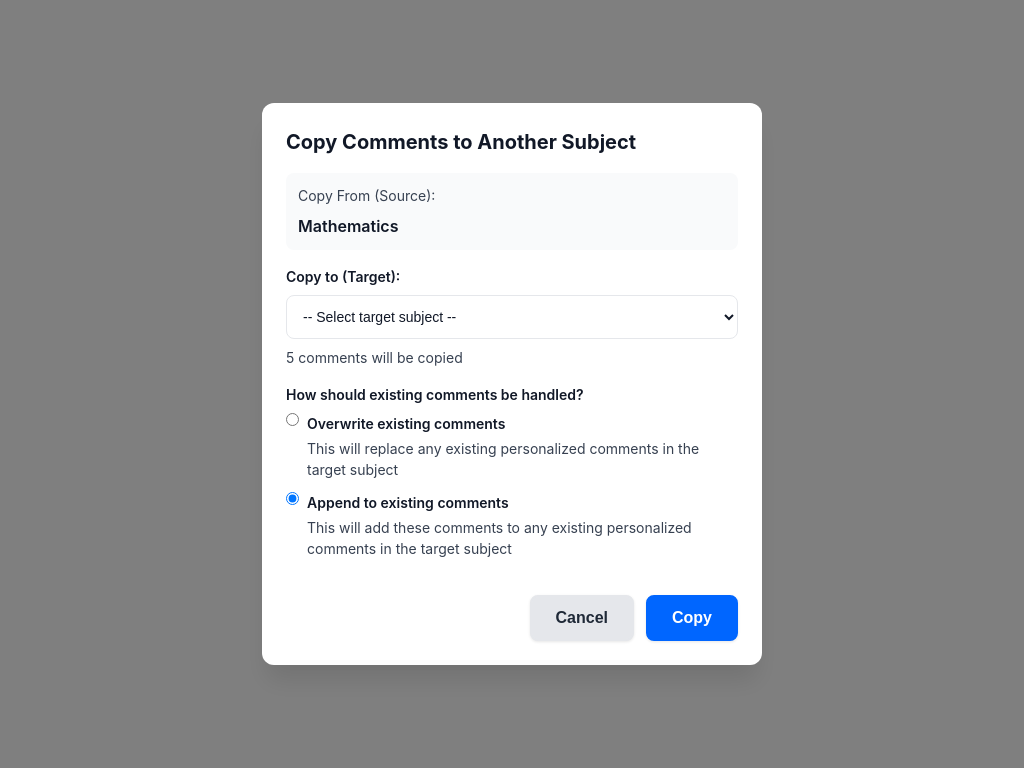
it: CopyCommentsModal - Validation & Edge Cases (US-CP-005) › AC-5.5: API Error Edge Cases › should handle 400 validation error from backend
Select "Chemistry" in the dropdown labelled "Copy to (Target):" at (512, 317), box [286,295,738,339]
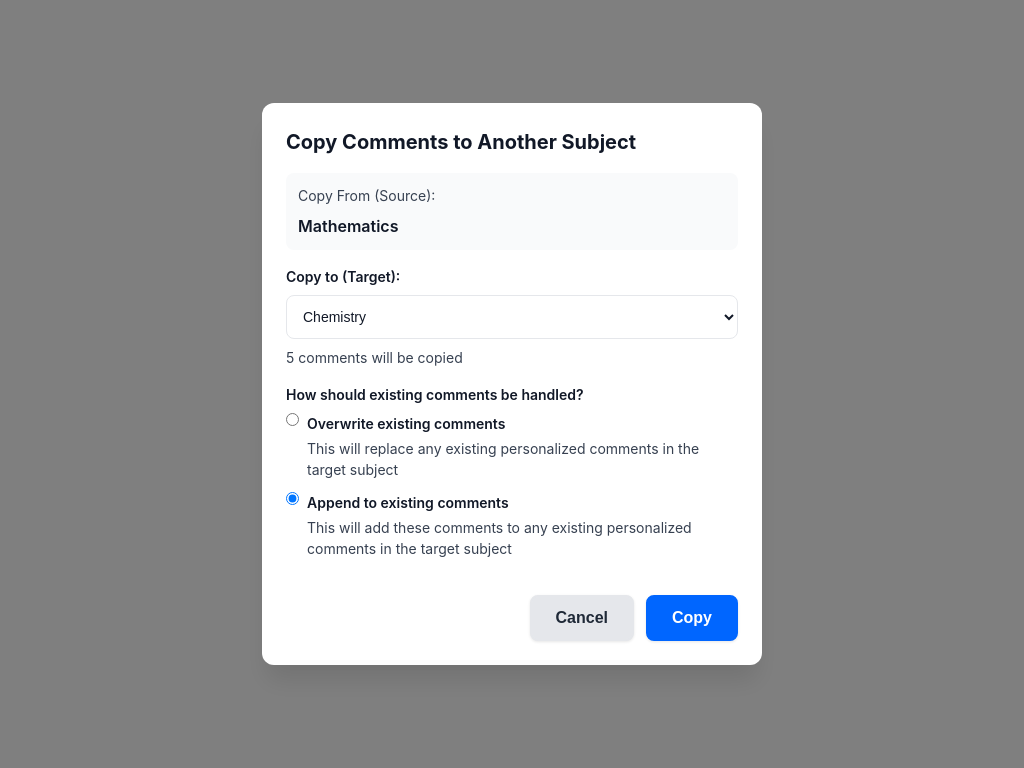
Click the button "Copy" at (692, 618), box [646,595,738,641]
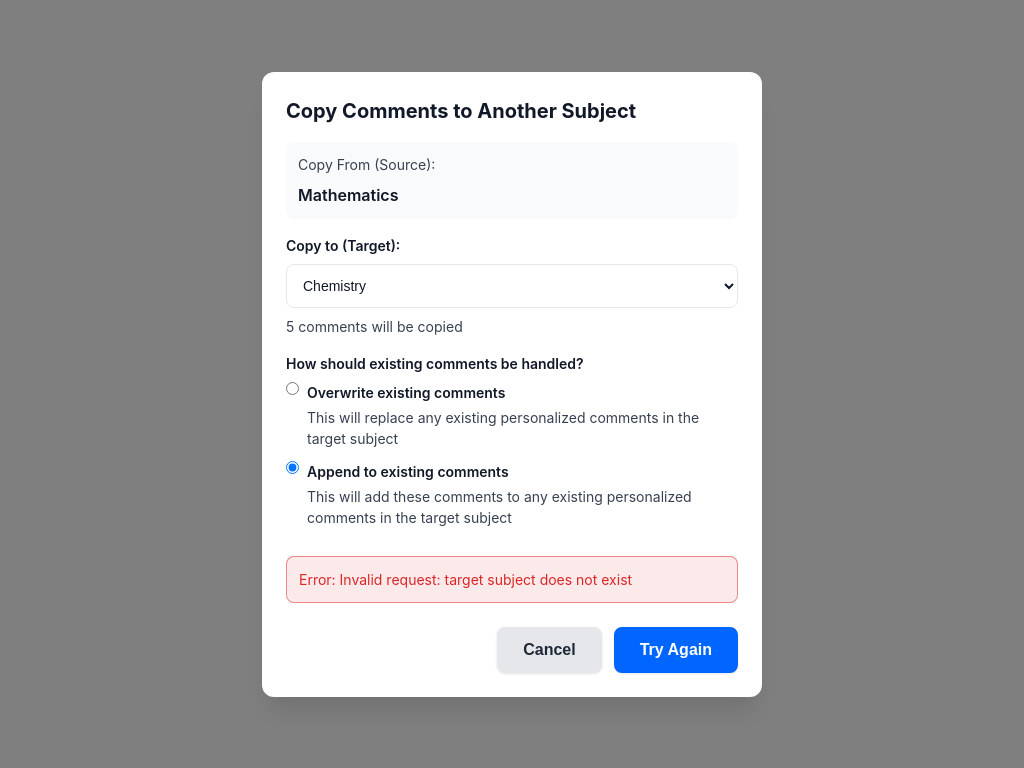
Now the text "Error: Invalid request: target subject does not exist" is shown, box [299,570,632,588]
